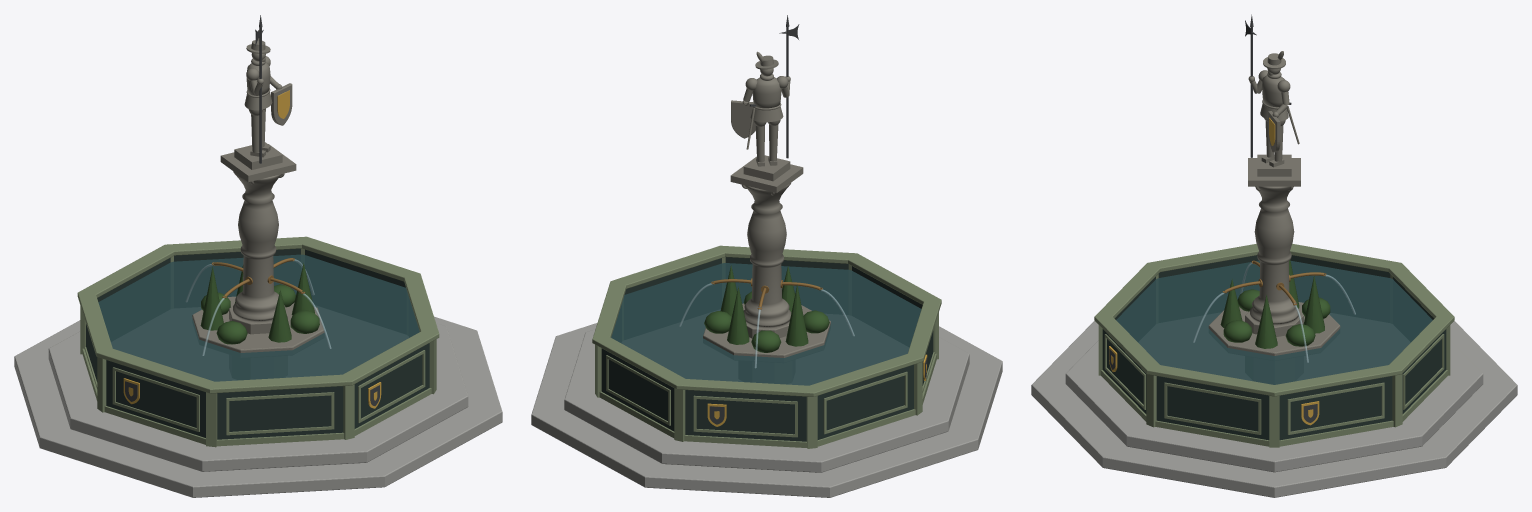
File: marktbrunnen_quelle.glb
The picture shows the model from 3 angles, left to right: view 1: azimuth 30°, elevation 25°; view 2: azimuth 150°, elevation 25°; view 3: azimuth 270°, elevation 25°; orthographic projection. The views are drawn at different scales.
Visible parts, largest first — view 1: wasser, stufe_unten, stufe_oben, wall_panel (×5), abdeckung, saeulenschaft, plinth_band (×3), pflanzschale, corner_post (×2), kapitell_platte, konifere_4, figurensockel (+4 smaller); view 2: wasser, stufe_unten, stufe_oben, wall_panel (×5), abdeckung, saeulenschaft, plinth_band (×3), pflanzschale, corner_post (×2), kapitell_platte, konifere_4, breastplate (+5 smaller); view 3: wasser, stufe_unten, stufe_oben, wall_panel (×6), abdeckung, saeulenschaft, pflanzschale, corner_post (×3), plinth_band (×2), kapitell_platte, konifere_2, konifere_3 (+4 smaller).
Boxes of the visible parts, left/top/right/bottom form: wasser: left=98, top=254, right=419, bottom=381; stufe_unten: left=14, top=316, right=502, bottom=497; stufe_oben: left=48, top=323, right=468, bottom=471; wall_panel (×5): left=106, top=248, right=429, bottom=439; abdeckung: left=77, top=236, right=439, bottom=393; saeulenschaft: left=233, top=171, right=281, bottom=322; plinth_band (×3): left=104, top=388, right=431, bottom=446; pflanzschale: left=192, top=296, right=324, bottom=352; corner_post (×2): left=206, top=384, right=354, bottom=447; kapitell_platte: left=220, top=144, right=296, bottom=182; konifere_4: left=200, top=266, right=223, bottom=330; figurensockel: left=234, top=142, right=282, bottom=169; wasser: left=611, top=263, right=921, bottom=385; stufe_unten: left=531, top=323, right=1002, bottom=497; stufe_oben: left=564, top=329, right=969, bottom=472; wall_panel (×5): left=601, top=257, right=913, bottom=441; abdeckung: left=592, top=245, right=941, bottom=396; saeulenschaft: left=744, top=183, right=791, bottom=328; plinth_band (×3): left=599, top=391, right=915, bottom=447; pflanzschale: left=703, top=303, right=830, bottom=357; corner_post (×2): left=674, top=388, right=817, bottom=448; kapitell_platte: left=730, top=156, right=803, bottom=192; konifere_4: left=785, top=285, right=808, bottom=346; breastplate: left=752, top=77, right=781, bottom=108; wasser: left=1116, top=260, right=1432, bottom=384; stufe_unten: left=1031, top=321, right=1517, bottom=497; stufe_oben: left=1065, top=340, right=1483, bottom=472; wall_panel (×6): left=1102, top=255, right=1446, bottom=440; abdeckung: left=1094, top=243, right=1454, bottom=396; saeulenschaft: left=1250, top=186, right=1298, bottom=325; pflanzschale: left=1208, top=302, right=1340, bottom=355; corner_post (×3): left=1146, top=374, right=1402, bottom=447; plinth_band (×2): left=1155, top=420, right=1393, bottom=446; kapitell_platte: left=1248, top=158, right=1300, bottom=186; konifere_2: left=1255, top=295, right=1277, bottom=348; konifere_3: left=1303, top=276, right=1324, bottom=333.
Size of the model in its own units: 7.13 by 6.1 by 7.13.
